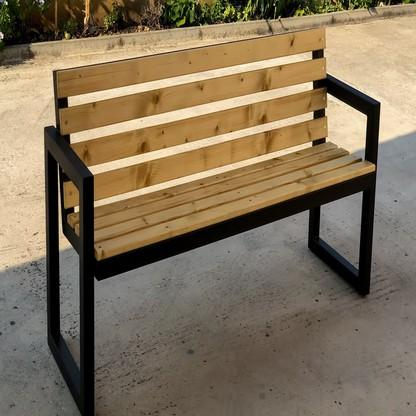obstacle: (22, 39, 393, 376)
